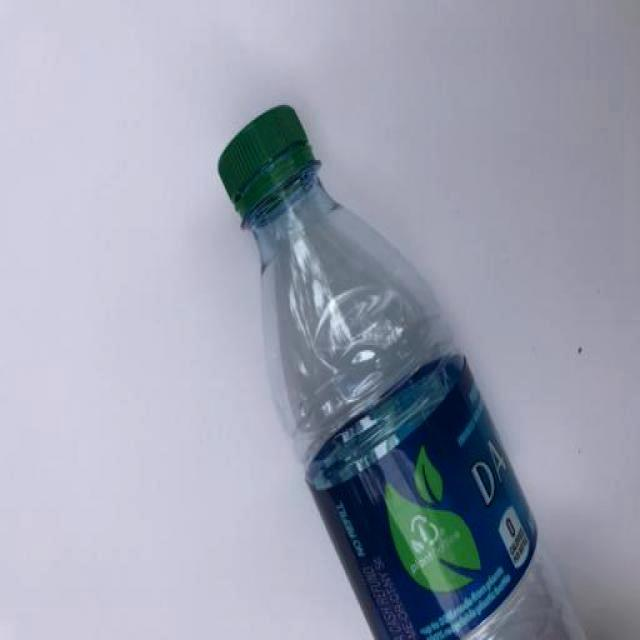bottle: (216, 104, 592, 640)
